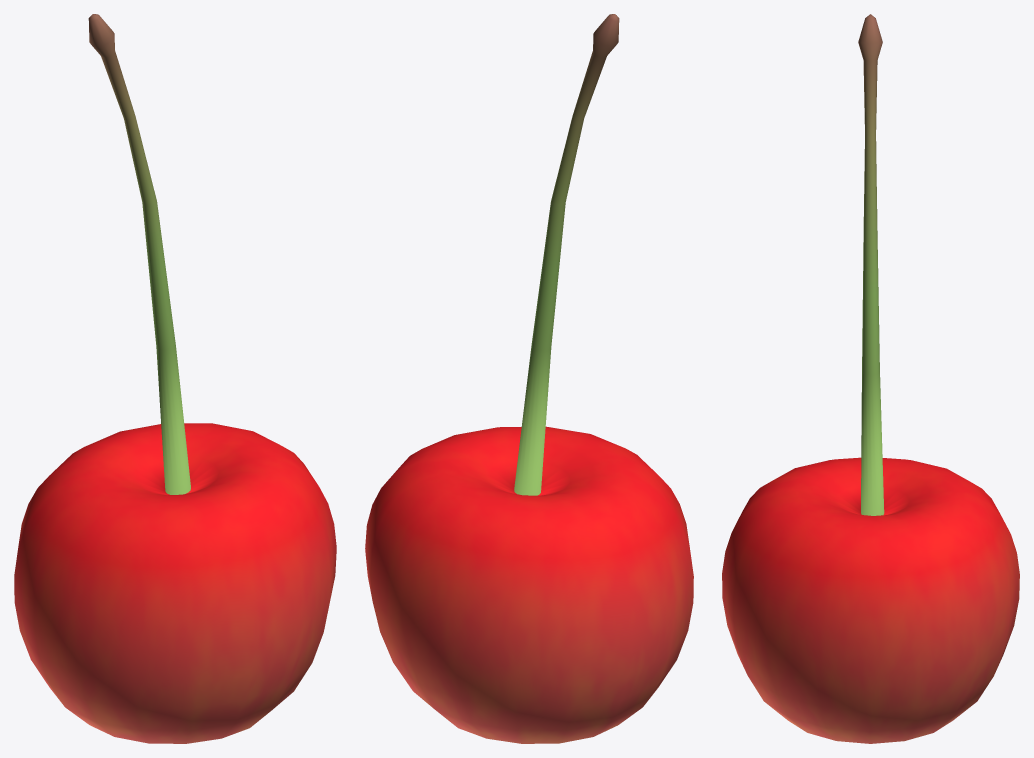
File: cherry.fbx
3 renders of one model, left to right at view 1: azimuth 30°, elevation 25°; view 2: azimuth 150°, elevation 25°; view 3: azimuth 270°, elevation 25°, orthographic. The views are drawn at different scales.
Visible parts, largest first — view 1: NurbsPath; view 2: NurbsPath; view 3: NurbsPath.
Boxes of the visible parts, <box> form: NurbsPath: <box>14,14,336,743</box>; NurbsPath: <box>365,14,693,743</box>; NurbsPath: <box>722,14,1019,743</box>.
Bounding box in the file's own units: 482 × 1167 × 470.
1 material, 1 textured.
